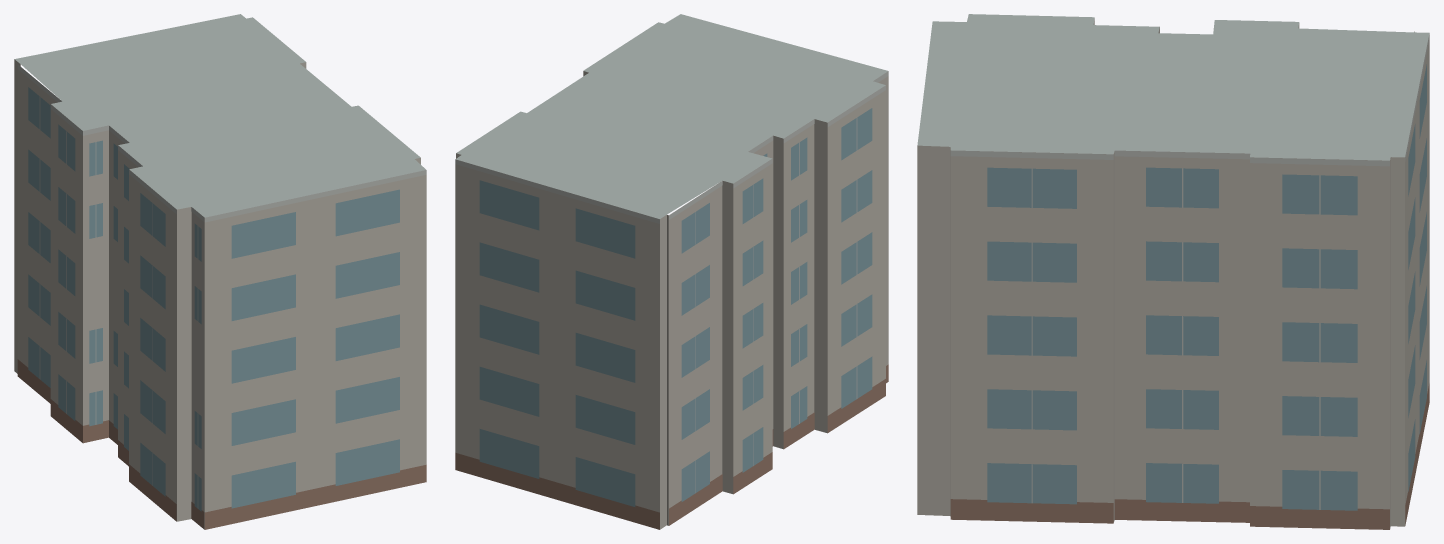
The model's file is survey-upis-32652705.glb.
The picture shows the model from 3 angles, left to right: view 1: azimuth 30°, elevation 25°; view 2: azimuth 150°, elevation 25°; view 3: azimuth 270°, elevation 25°; orthographic projection. The views are drawn at different scales.
Parts seen in each view (by area): view 1: survey-upis-32652705.tmp; view 2: survey-upis-32652705.tmp; view 3: survey-upis-32652705.tmp.
Boxes of the visible parts, left/top/right/bottom form: survey-upis-32652705.tmp: left=14, top=14, right=426, bottom=529; survey-upis-32652705.tmp: left=455, top=14, right=888, bottom=529; survey-upis-32652705.tmp: left=917, top=14, right=1429, bottom=529.
Size of the model in its own units: 13.38 by 15.7 by 19.75.
